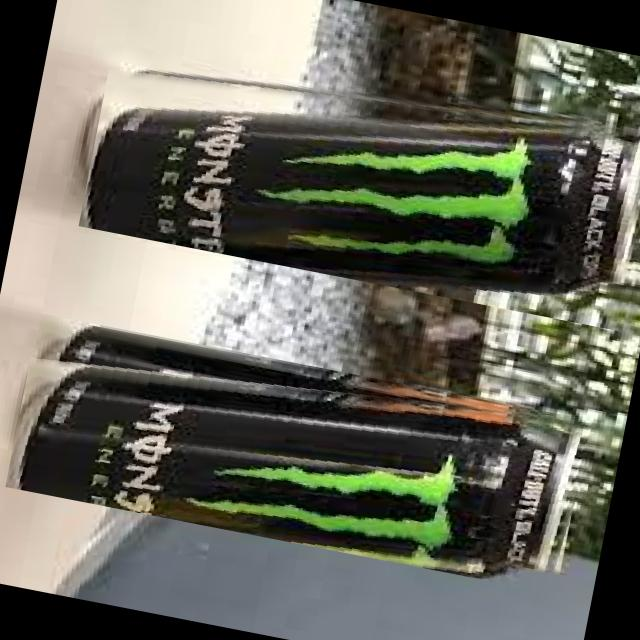Cans: (77, 27, 640, 334), (4, 312, 597, 596)
